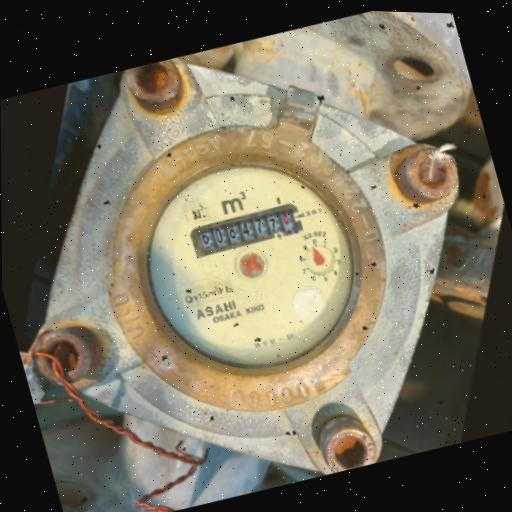0: (212, 224, 227, 247)
4: (239, 217, 254, 239)
6: (197, 227, 214, 250)
7: (252, 213, 267, 236), (266, 210, 281, 233)
8: (279, 208, 294, 235), (226, 221, 240, 244)
border_water_meter_number: (188, 197, 305, 260)
